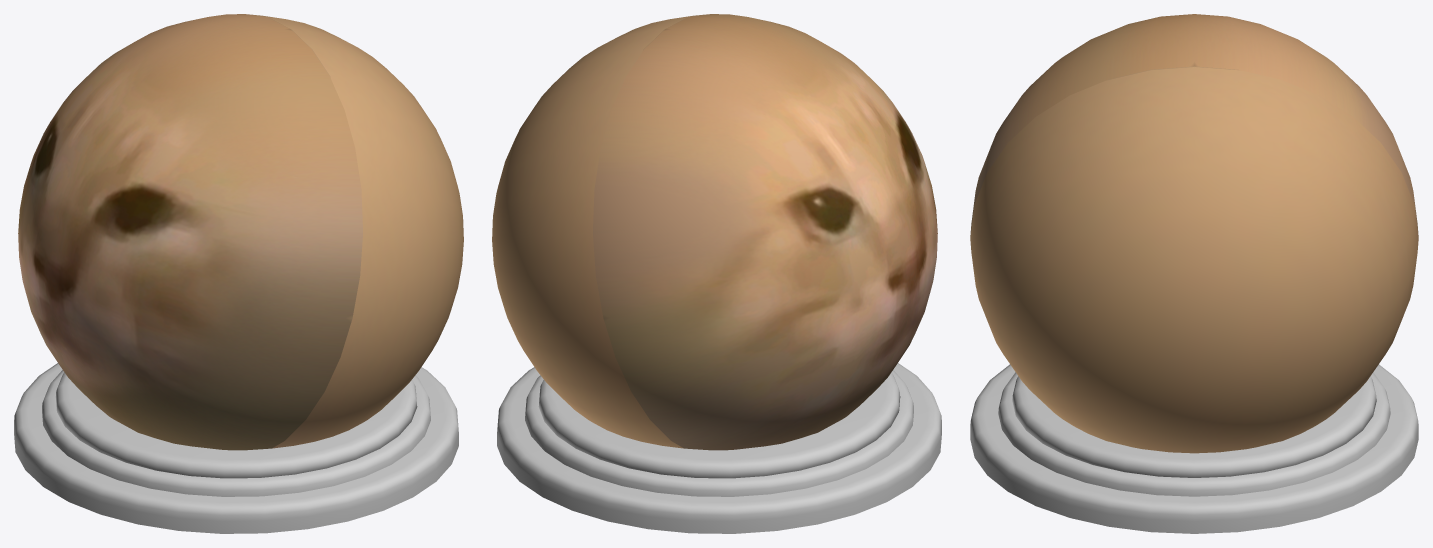
Rendered from maodie_shidunzi.fbx.
3 renders of one model, left to right at view 1: azimuth 30°, elevation 25°; view 2: azimuth 150°, elevation 25°; view 3: azimuth 270°, elevation 25°, orthographic.
Visible parts, largest first — view 1: mesh_781, mesh_774, mesh_780, mesh_775; view 2: mesh_781, mesh_774, mesh_780, mesh_775; view 3: mesh_781, mesh_774, mesh_780, mesh_775.
Part boxes in pixels (x1,y1,x2,y2): mesh_781: (18, 14, 463, 450); mesh_774: (14, 363, 458, 533); mesh_780: (55, 372, 417, 478); mesh_775: (42, 370, 430, 496); mesh_781: (492, 14, 937, 450); mesh_774: (497, 363, 941, 533); mesh_780: (538, 372, 900, 478); mesh_775: (525, 370, 913, 496); mesh_781: (970, 14, 1418, 453); mesh_774: (970, 364, 1418, 533); mesh_780: (1012, 376, 1376, 477); mesh_775: (998, 372, 1390, 496).
Bounding box in the file's own units: 32.37 × 31.99 × 32.
